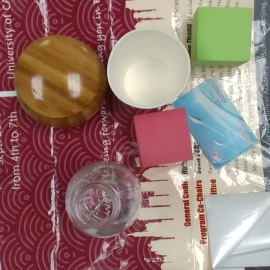bottle: (64, 156, 143, 238)
card: (173, 76, 259, 167)
chess: (16, 35, 106, 132)
cup: (107, 27, 190, 108)
